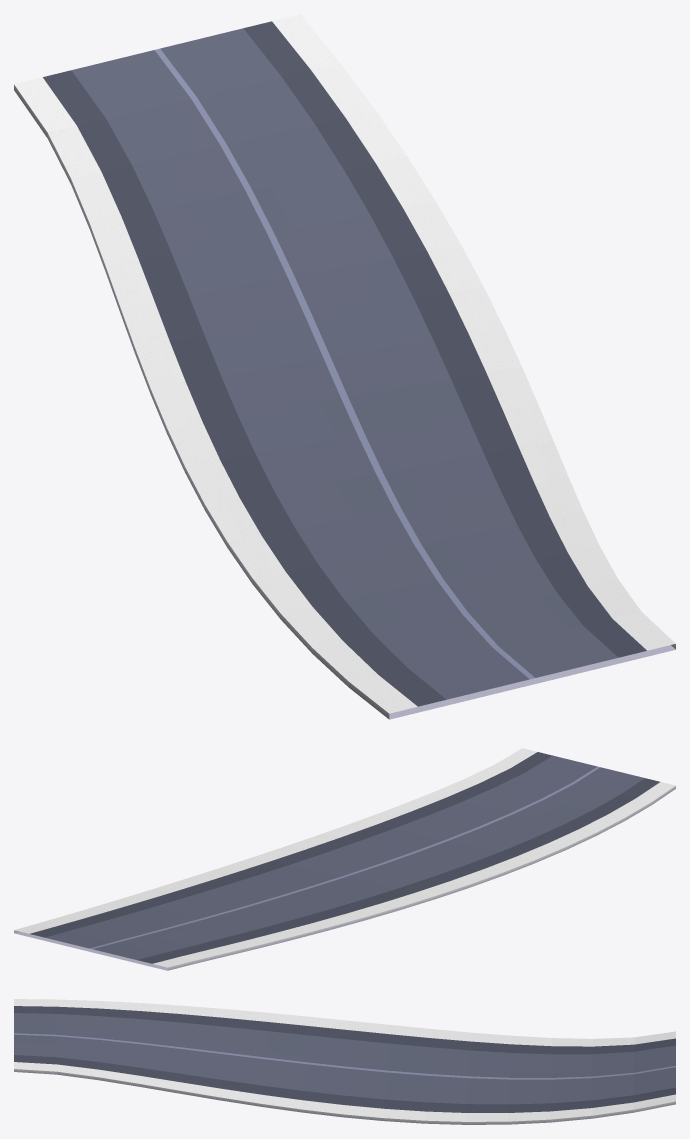
The model's file is road-Chicane-Flat-BiSlopeUp-Up1-Right1-Size4.glb.
3 renders of one model, top to bottom at view 1: azimuth 30°, elevation 25°; view 2: azimuth 150°, elevation 25°; view 3: azimuth 270°, elevation 25°, orthographic. The views are drawn at different scales.
Parts seen in each view (by area): view 1: road-Chicane-Flat-BiSlopeUp-Up1-Right1-Size4; view 2: road-Chicane-Flat-BiSlopeUp-Up1-Right1-Size4; view 3: road-Chicane-Flat-BiSlopeUp-Up1-Right1-Size4.
Boxes of the visible parts, left/top/right/bottom form: road-Chicane-Flat-BiSlopeUp-Up1-Right1-Size4: left=14, top=14, right=675, bottom=719; road-Chicane-Flat-BiSlopeUp-Up1-Right1-Size4: left=14, top=748, right=675, bottom=970; road-Chicane-Flat-BiSlopeUp-Up1-Right1-Size4: left=14, top=999, right=675, bottom=1124.
Size of the model in its own units: 2 by 0.2993 by 4.
1 material, 1 textured.
